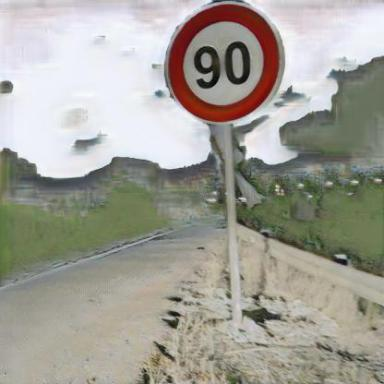Speed_limit_90: (169, 6, 279, 122)
